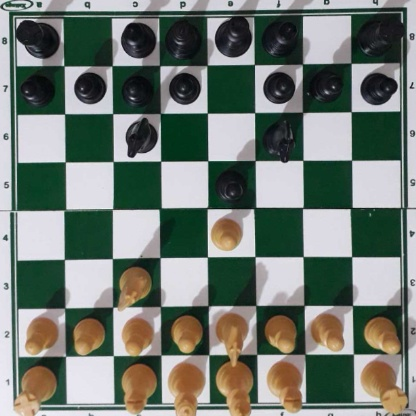black-bishop: (259, 16, 300, 55), (119, 19, 155, 56)
black-king: (212, 17, 253, 58)
black-knight: (262, 115, 296, 160), (124, 116, 156, 155)
black-pawn: (360, 69, 396, 105), (215, 166, 249, 202), (262, 68, 296, 103), (311, 67, 343, 102), (168, 69, 199, 105), (73, 69, 104, 104), (20, 72, 53, 104), (121, 72, 152, 106)
black-queen: (164, 16, 202, 55)
black-rook: (12, 16, 59, 58), (358, 10, 401, 55)
white-bishop: (120, 364, 159, 416), (265, 361, 302, 411)
white-king: (215, 358, 253, 414)
white-knight: (214, 311, 250, 367), (115, 263, 151, 309)
white-pawn: (309, 310, 346, 350), (363, 313, 400, 352), (22, 314, 58, 354), (264, 313, 298, 351), (120, 317, 154, 355), (169, 314, 202, 352), (71, 315, 104, 352), (209, 216, 242, 250)
white-queen: (166, 361, 205, 415)
white-rook: (361, 356, 405, 413), (15, 360, 54, 416)
